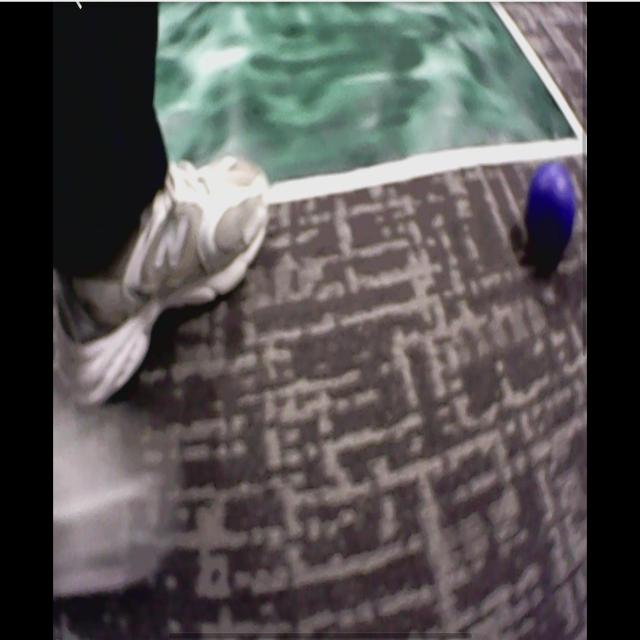ball: (524, 167, 577, 253)
